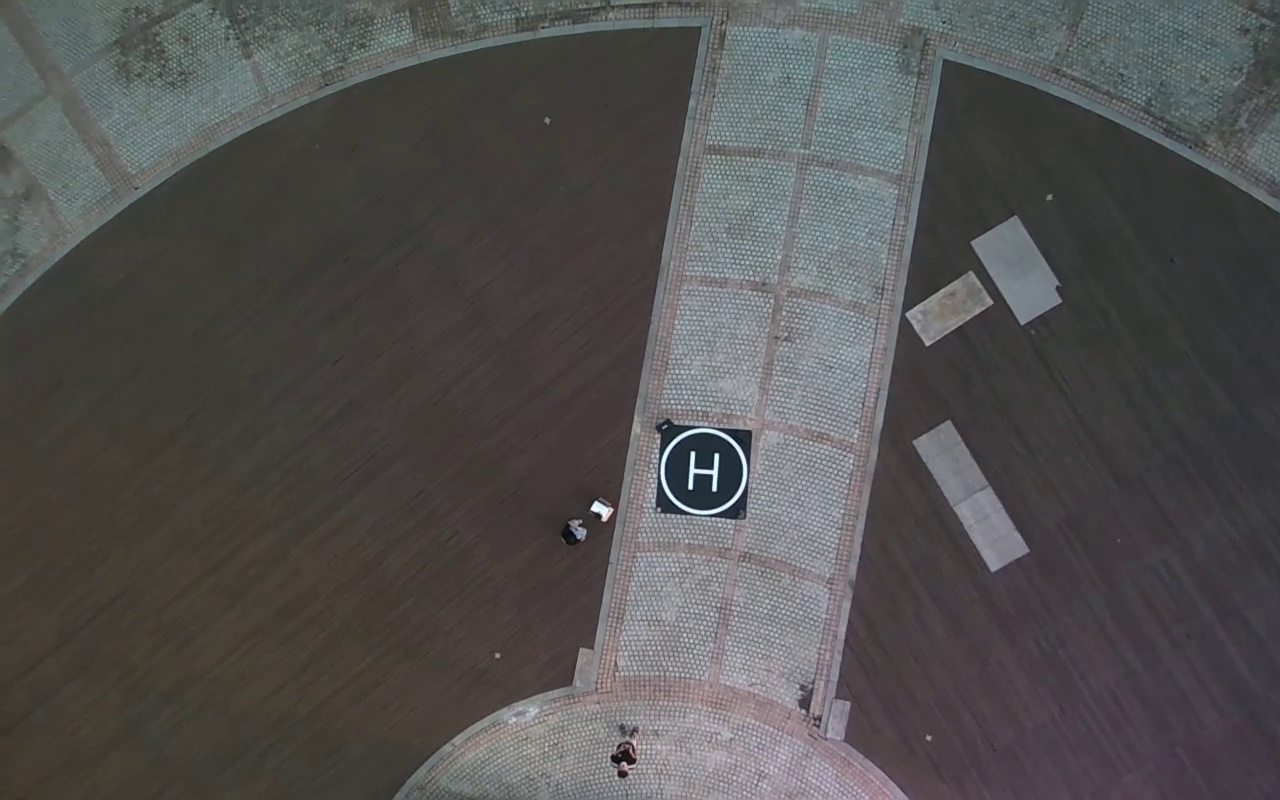H: (687, 449, 718, 492)
heliport: (659, 428, 748, 513)
